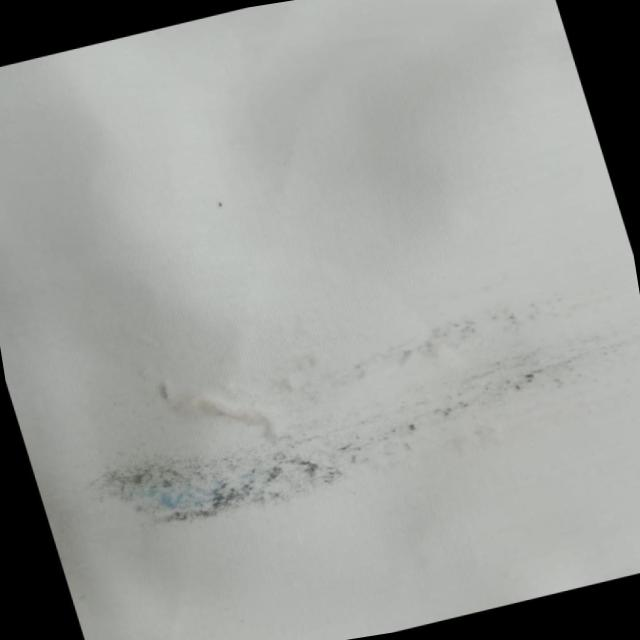stain: (52, 275, 640, 552)
